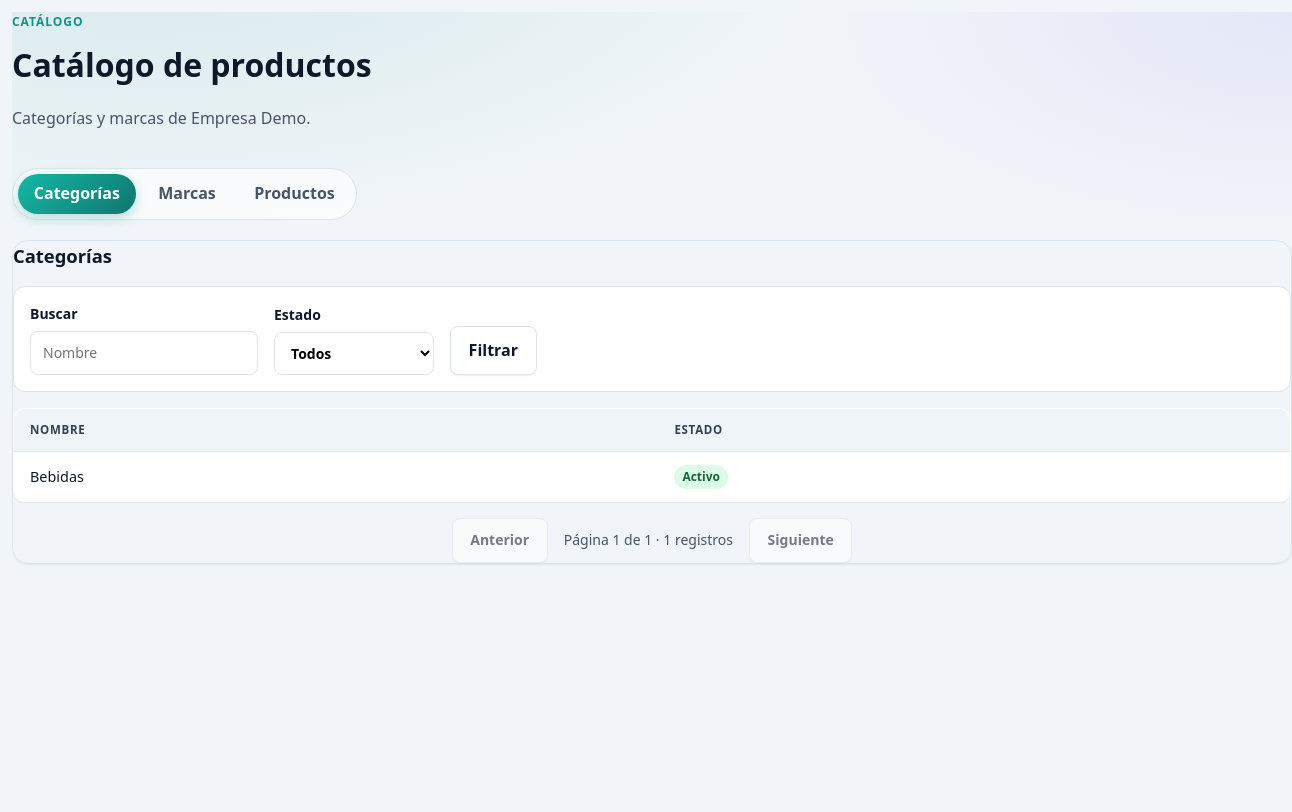
CatalogPage › permite cambiar a la pestaña de marcas
Expected: the text "Bebidas" is shown, [14, 452, 658, 501]
Step 1. Click the button "Marcas" → x=187, y=194, box [142, 174, 232, 214]
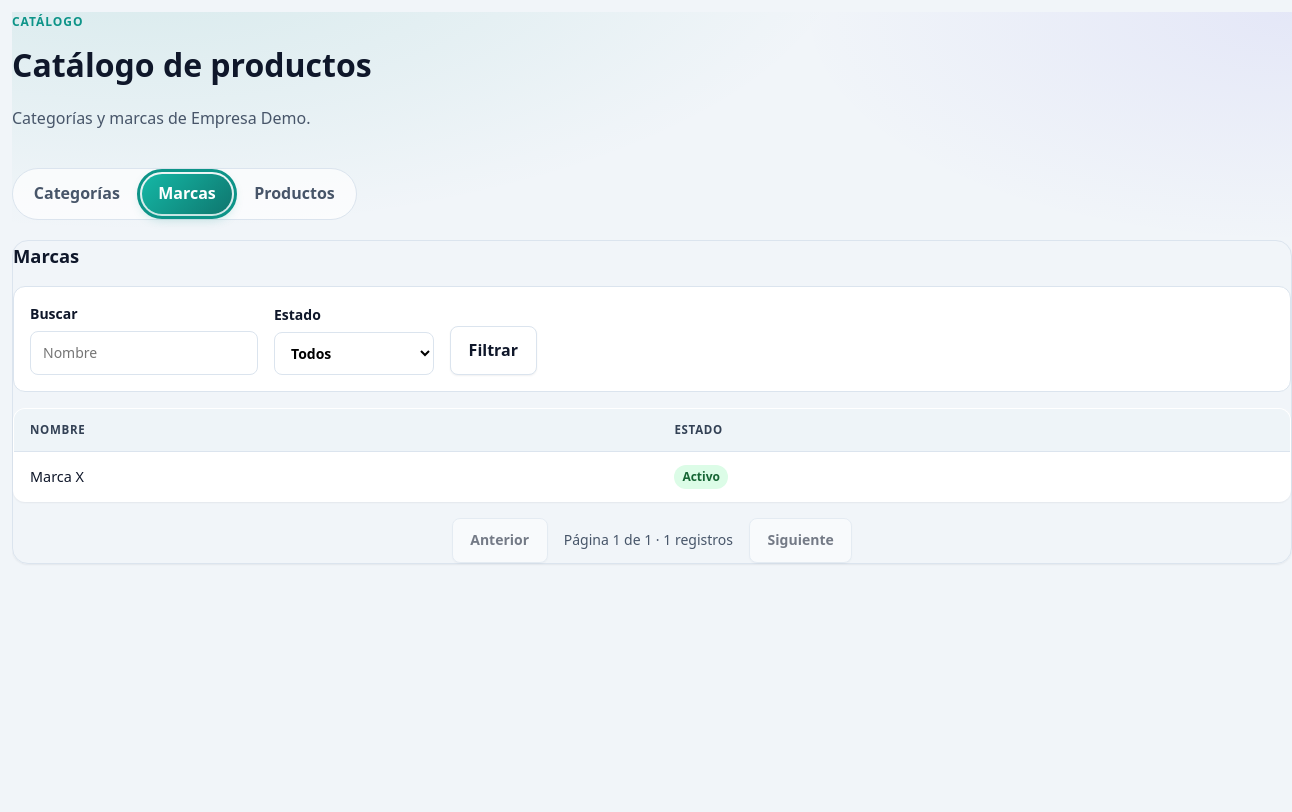
Expected: the text "Marca X" is shown, [14, 452, 658, 501]
